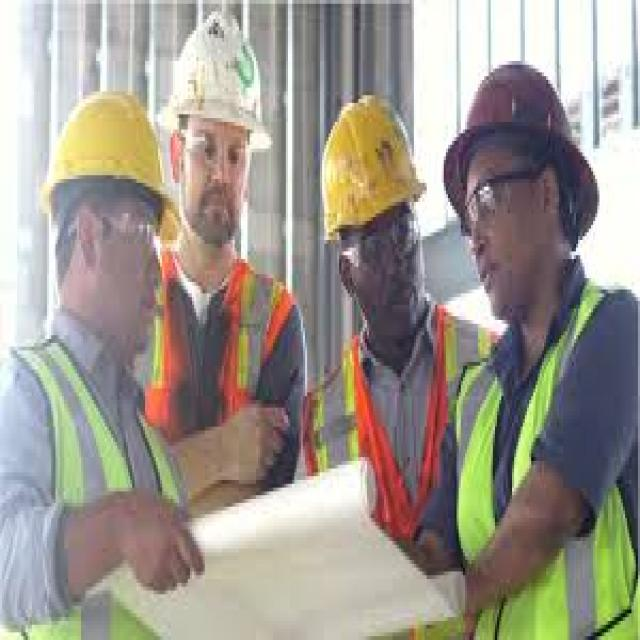Reflective-Jacket: (450, 285, 640, 640), (0, 324, 203, 640), (143, 244, 316, 594), (299, 312, 478, 618)
Safety-Helmet: (433, 46, 608, 240), (32, 76, 188, 240), (309, 84, 431, 259), (160, 8, 279, 164)
